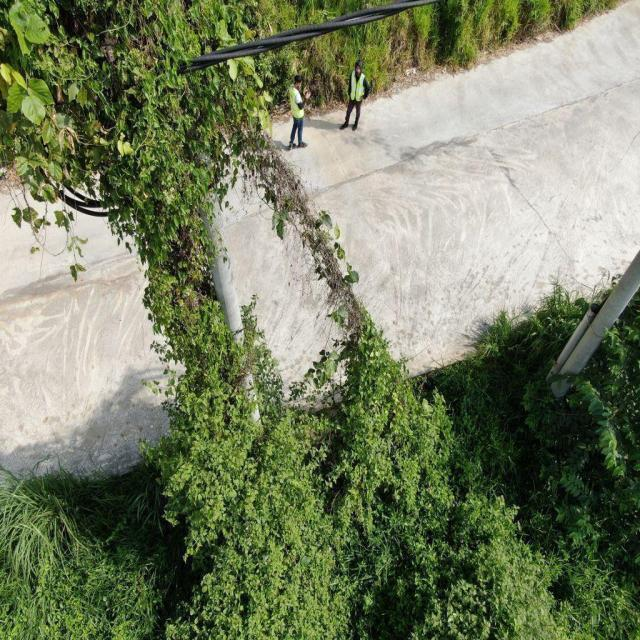critical vegetation: (34, 32, 443, 616)
